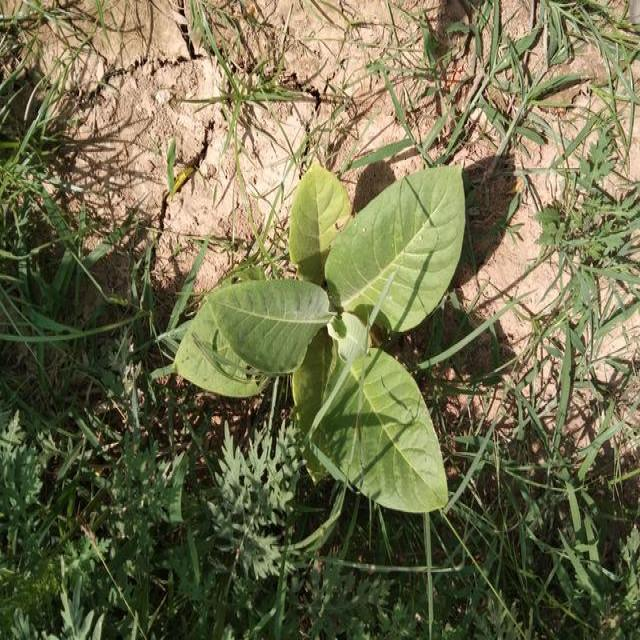crop: (175, 162, 466, 514)
